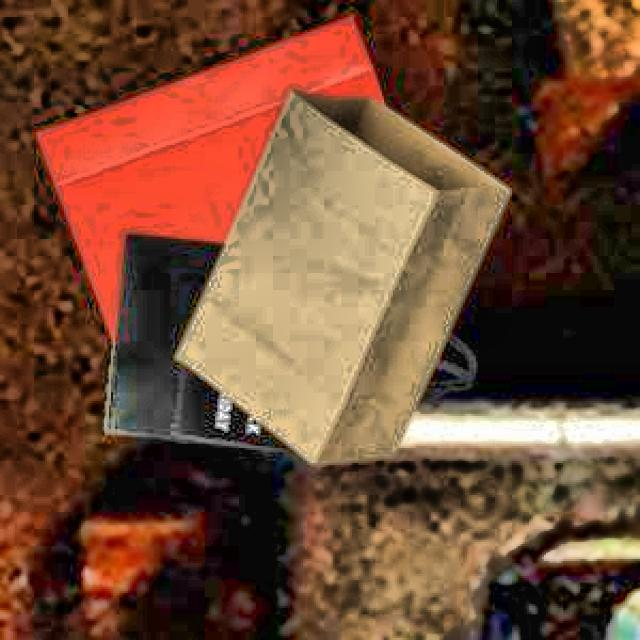Paper-bag: (28, 16, 450, 388), (170, 78, 521, 486)
